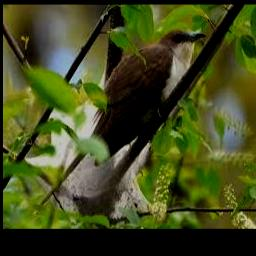Cuckoo: (40, 29, 206, 205)
